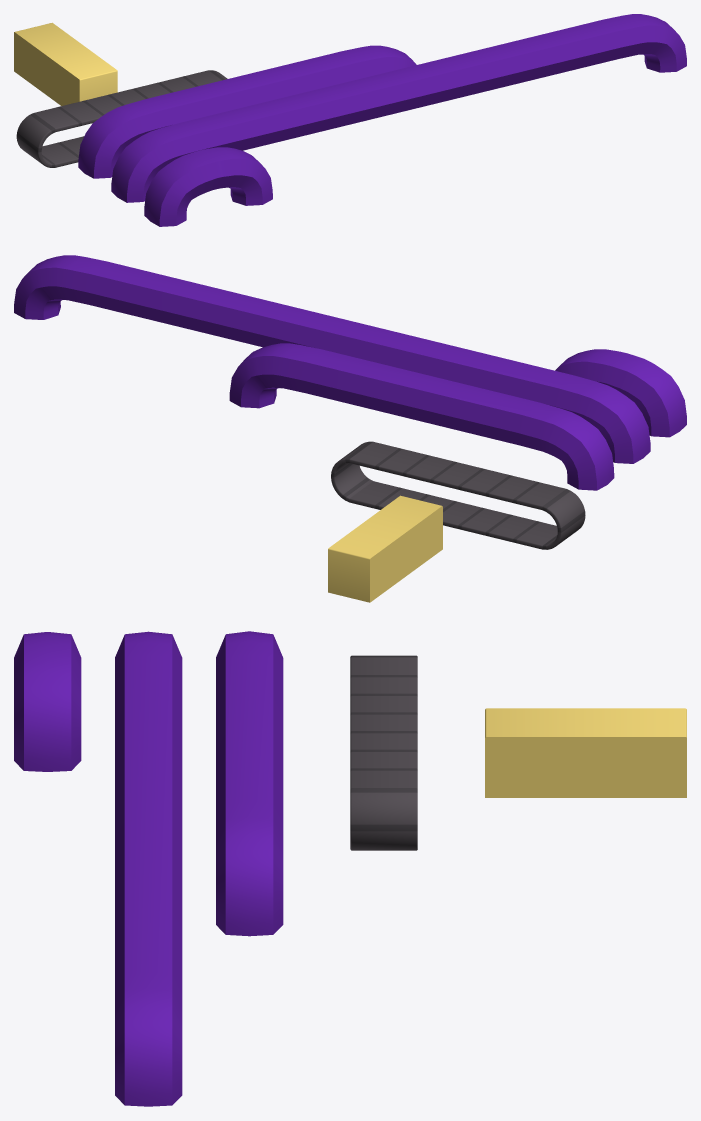
File: environment.fbx
The picture shows the model from 3 angles, top to bottom: view 1: azimuth 30°, elevation 25°; view 2: azimuth 150°, elevation 25°; view 3: azimuth 270°, elevation 25°; orthographic projection. The views are drawn at different scales.
Visible parts, largest first — view 1: Circle.003, Circle.002, Circle.004, Cube, Circle.001, Circle; view 2: Circle.003, Circle.002, Circle.001, Cube, Circle.004, Circle, Circle.005; view 3: Circle.003, Circle.002, Cube, Circle.004, Circle.001, Circle.005.
Boxes of the visible parts, x1,y1,x2,y2 form: Circle.003: [111, 14, 686, 202]; Circle.002: [78, 45, 416, 178]; Circle.004: [144, 147, 272, 226]; Cube: [14, 22, 117, 105]; Circle.001: [34, 70, 221, 167]; Circle: [16, 113, 55, 167]; Circle.003: [14, 255, 650, 463]; Circle.002: [229, 343, 614, 490]; Circle.001: [349, 442, 565, 549]; Cube: [328, 495, 442, 602]; Circle.004: [555, 349, 686, 437]; Circle: [542, 489, 585, 549]; Circle.005: [331, 441, 373, 502]; Circle.003: [115, 631, 182, 1106]; Circle.002: [216, 631, 283, 936]; Cube: [485, 708, 686, 797]; Circle.004: [14, 632, 81, 771]; Circle.001: [350, 657, 417, 788]; Circle.005: [350, 788, 417, 850].
Size of the model in its own units: 30.35 by 3.7 by 20.
1 material, 1 textured.
